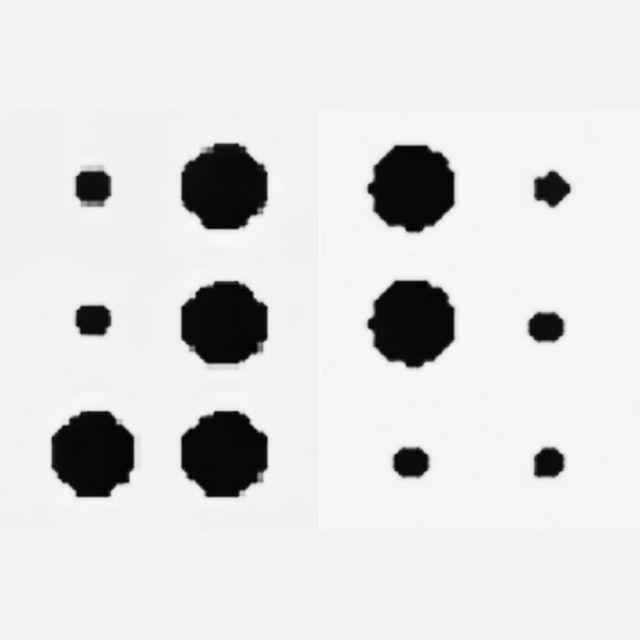2: (366, 145, 583, 500)
number: (51, 144, 267, 498)
